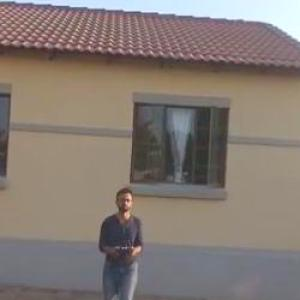follow: (92, 192, 152, 299)
